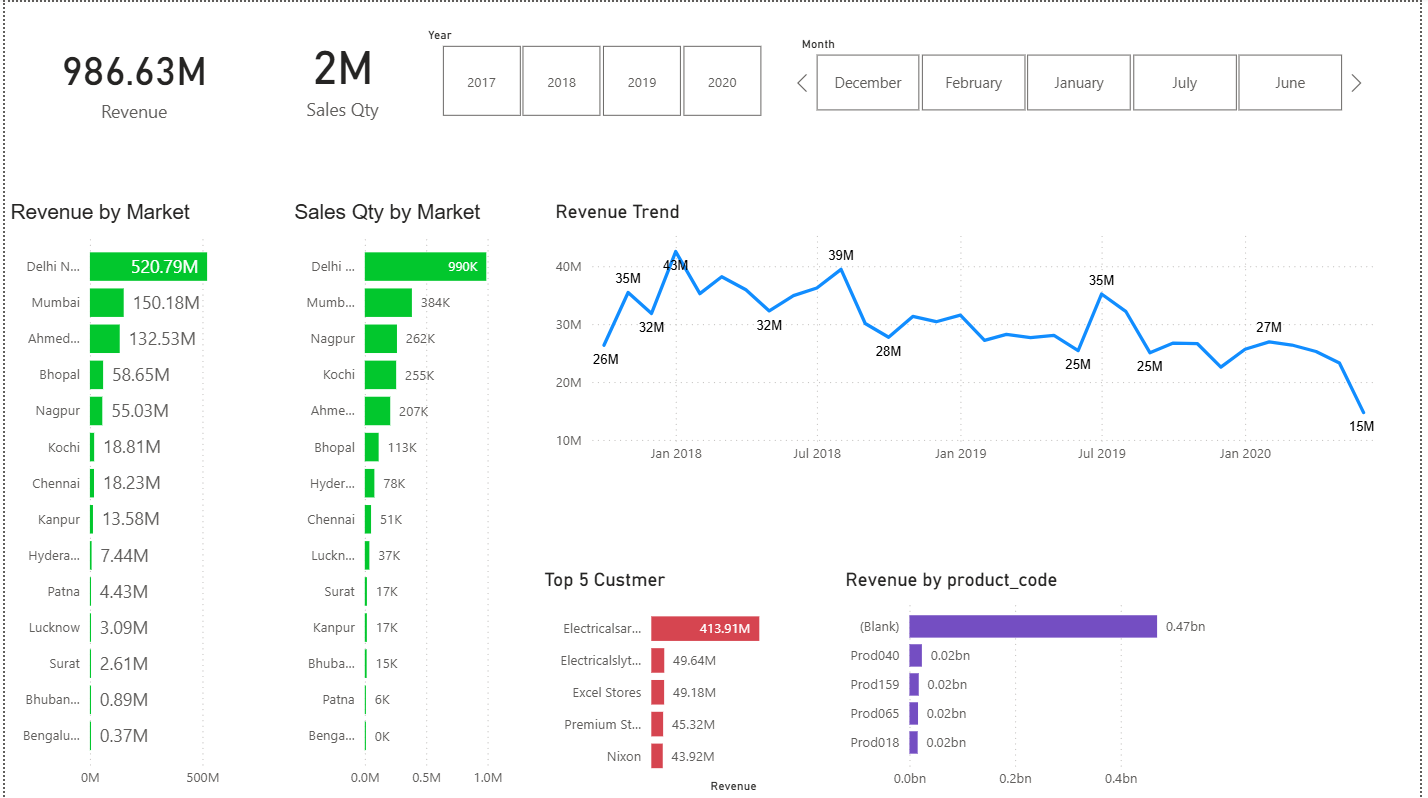

The page's visual inventory and layout, read from the dashboard file:
{"tool":"powerbi","page":{"name":"Page 1","canvas":[1280,720],"ordinal":0},"visuals":[{"type":"card","fields":{"Values":["basemeasures.Sales Qty"]},"box":[213.8,0,183.8,131.2],"z":0},{"type":"card","fields":{"Values":["basemeasures.Revenue"]},"box":[10,8.8,213.8,122.5],"z":1000},{"type":"barChart","title":"Revenue by Market","fields":{"Y":["basemeasures.Revenue"],"Category":["sales markets.markets_name"]},"box":[0,180.2,257,539.5],"z":2000},{"type":"barChart","title":"Sales Qty by Market","fields":{"Y":["basemeasures.Sales Qty"],"Category":["sales markets.markets_name"]},"box":[257,180.2,225.6,539.5],"z":3000},{"type":"slicer","fields":{"Values":["sales date.year"]},"box":[369.8,18.6,338.4,91.9],"z":4000},{"type":"slicer","fields":{"Values":["sales date.month_name"]},"box":[708.1,25.6,525.6,79.1],"z":5000},{"type":"barChart","title":"Top 5 Custmer","fields":{"Category":["sales customers.custmer_name"],"Y":["basemeasures.Revenue"]},"box":[482.6,511.6,255.8,208.1],"z":6000},{"type":"barChart","fields":{"Category":["sales products.product_code"],"Y":["basemeasures.Revenue"]},"box":[755.8,511.6,353.5,208.1],"z":7000},{"type":"lineChart","title":"Revenue Trend","fields":{"Category":["sales date.cy_date.Variation.Date Hierarchy.Year","sales date.cy_date.Variation.Date Hierarchy.Quarter","sales date.cy_date.Variation.Date Hierarchy.Month","sales date.cy_date.Variation.Date Hierarchy.Day"],"Y":["basemeasures.Revenue"]},"box":[493,180.2,765.1,246.5],"z":8000}]}

Visuals, with their boxes in screenshot pixels (x1, y1, x2, y2), scaled from the page's 1280x720 canvas onto the 1428x798 screenshot:
card - basemeasures.Sales Qty: 239 0 444 145
card - basemeasures.Revenue: 11 10 250 146
"Revenue by Market" barChart: 0 200 287 797
"Sales Qty by Market" barChart: 287 200 538 797
slicer - sales date.year: 413 21 790 122
slicer - sales date.month_name: 790 28 1376 116
"Top 5 Custmer" barChart: 538 567 824 797
barChart - sales products.product_code x basemeasures.Revenue: 843 567 1238 797
"Revenue Trend" lineChart: 550 200 1404 473
